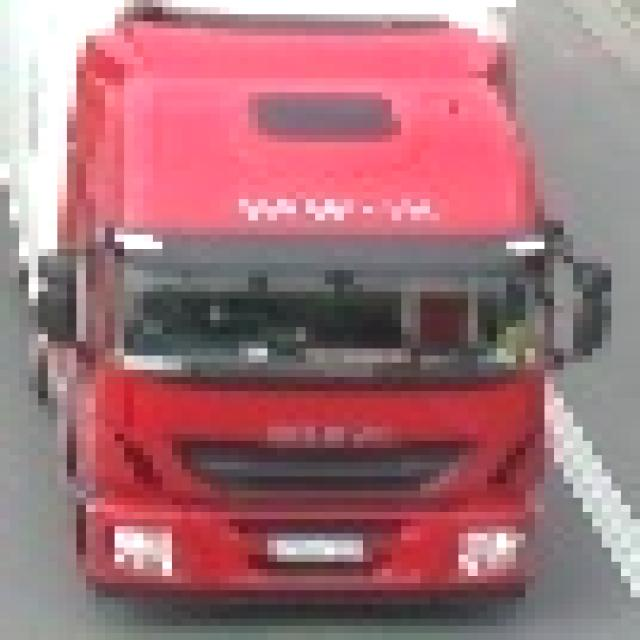TRUCK: (0, 0, 611, 611)
